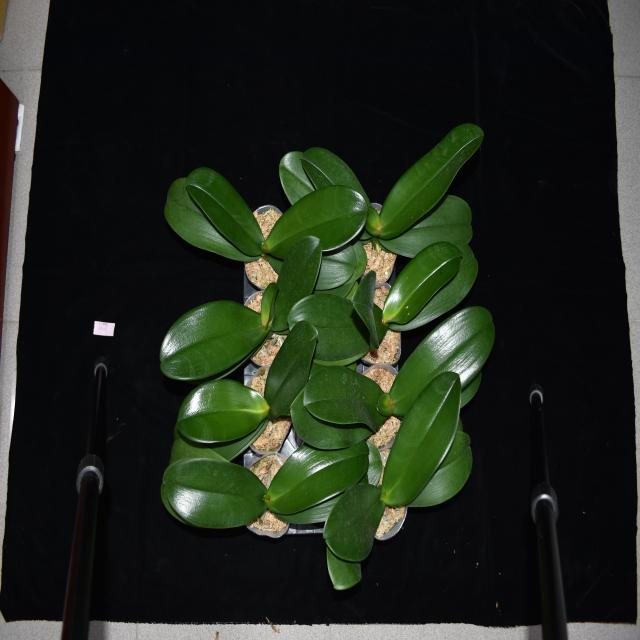leaf: (383, 372, 463, 504), (381, 128, 484, 230), (390, 312, 494, 409), (165, 169, 264, 261), (157, 302, 268, 383), (163, 454, 268, 532), (257, 440, 367, 512), (292, 368, 389, 448), (385, 247, 478, 319), (280, 142, 372, 212), (262, 187, 364, 250), (292, 294, 387, 360), (322, 486, 384, 583), (176, 387, 267, 445), (270, 250, 321, 328)
